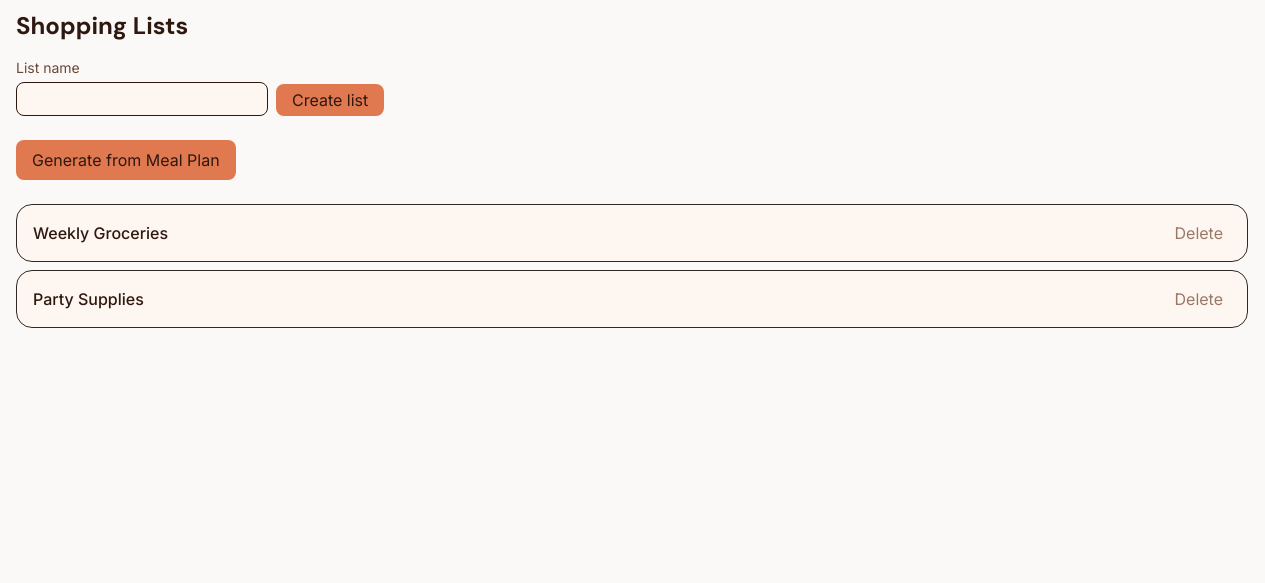
Test case: ShoppingListPage › Shopping List Detail - Items Grouped by Category › should show items grouped by category when viewing a list
Click the button "Weekly Groceries" at [101, 233], box [33,221,168,245]
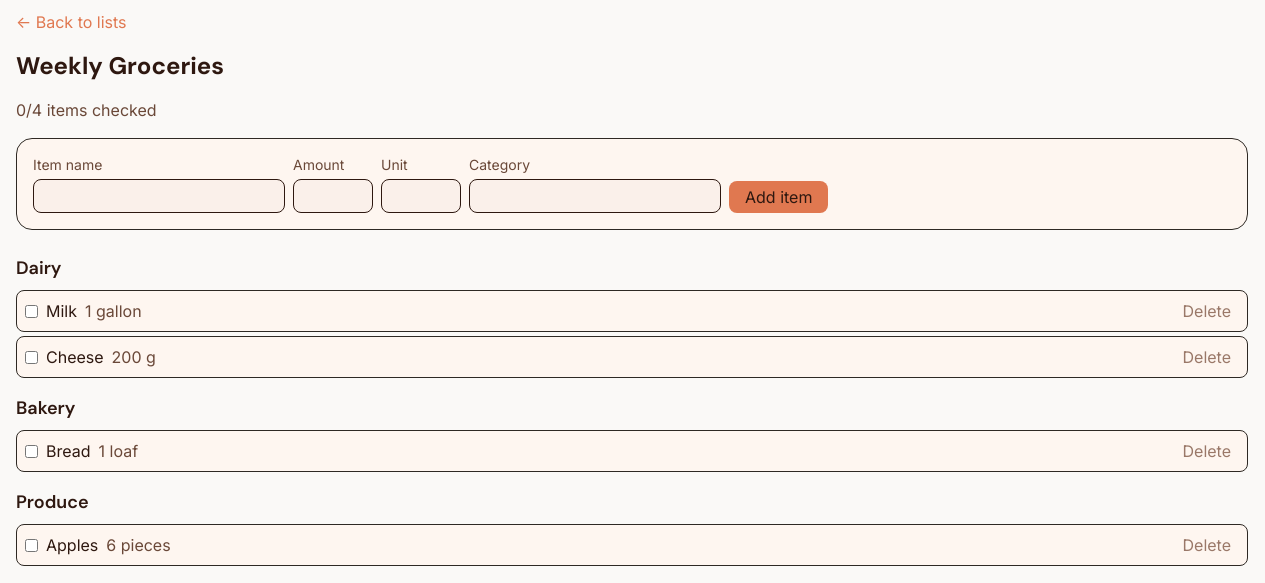
Now the heading "Dairy" is shown, box [16,256,62,280]
Now the heading "Bakery" is shown, box [16,396,75,420]
Now the heading "Produce" is shown, box [16,490,89,514]
